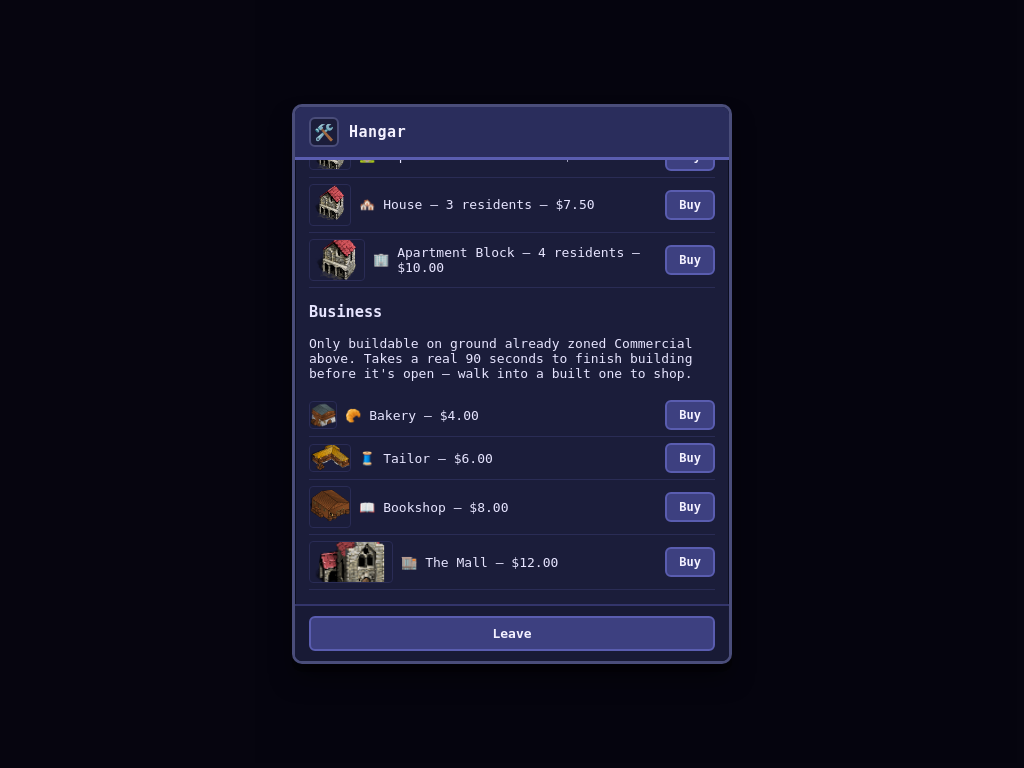
Test: HangarOverlay › Business (business.md) › buying a second business type re-arms rather than queuing
This screenshot has width=1024, height=768.
(page scrolled)
Click the button "Buy" in the row of "Bakery": (690, 415) [665,400,715,430]
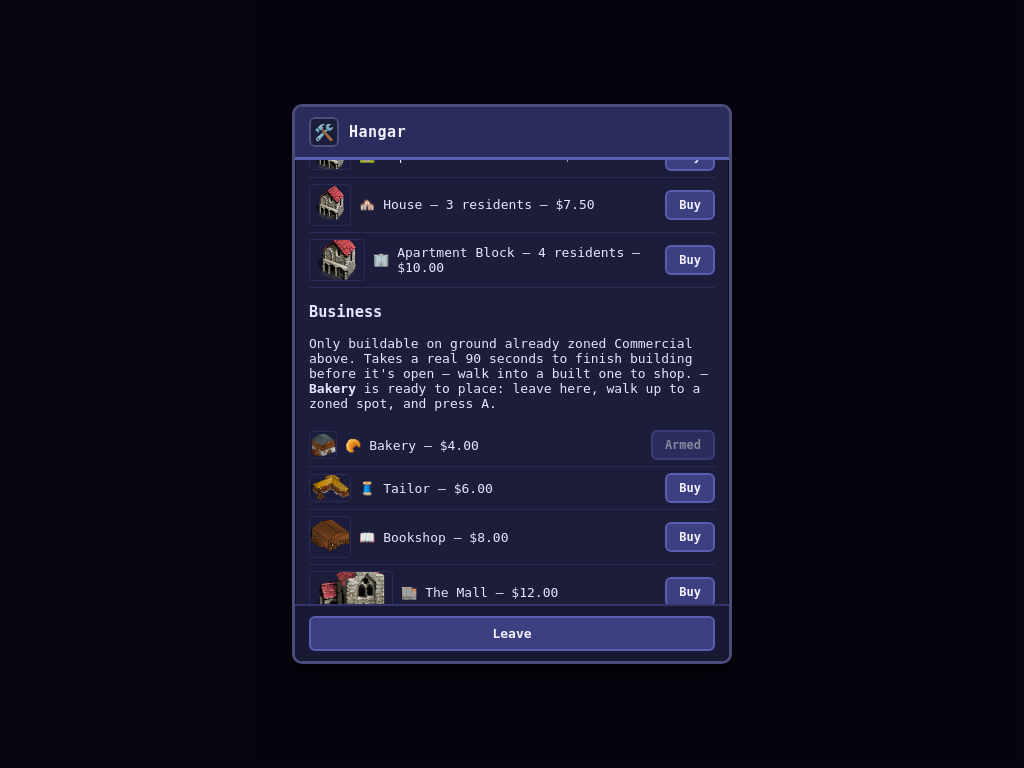
Click the button "Buy" in the row of "Tailor": (690, 488) [665,473,715,503]
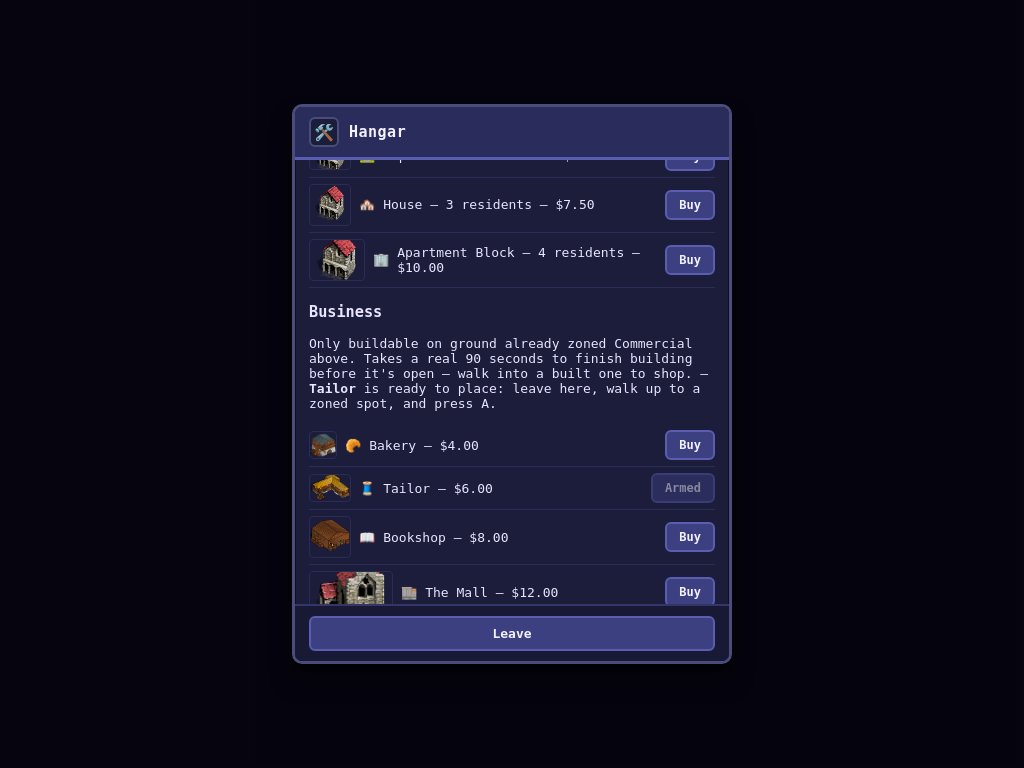
Check: the number of buttons "Armed" is 1, box [651,473,715,503]
Check: the text "Tailor" is shown, box [309,381,356,396]
Check: the button "Buy" in the row of "Bakery" is shown, box [665,430,715,460]
